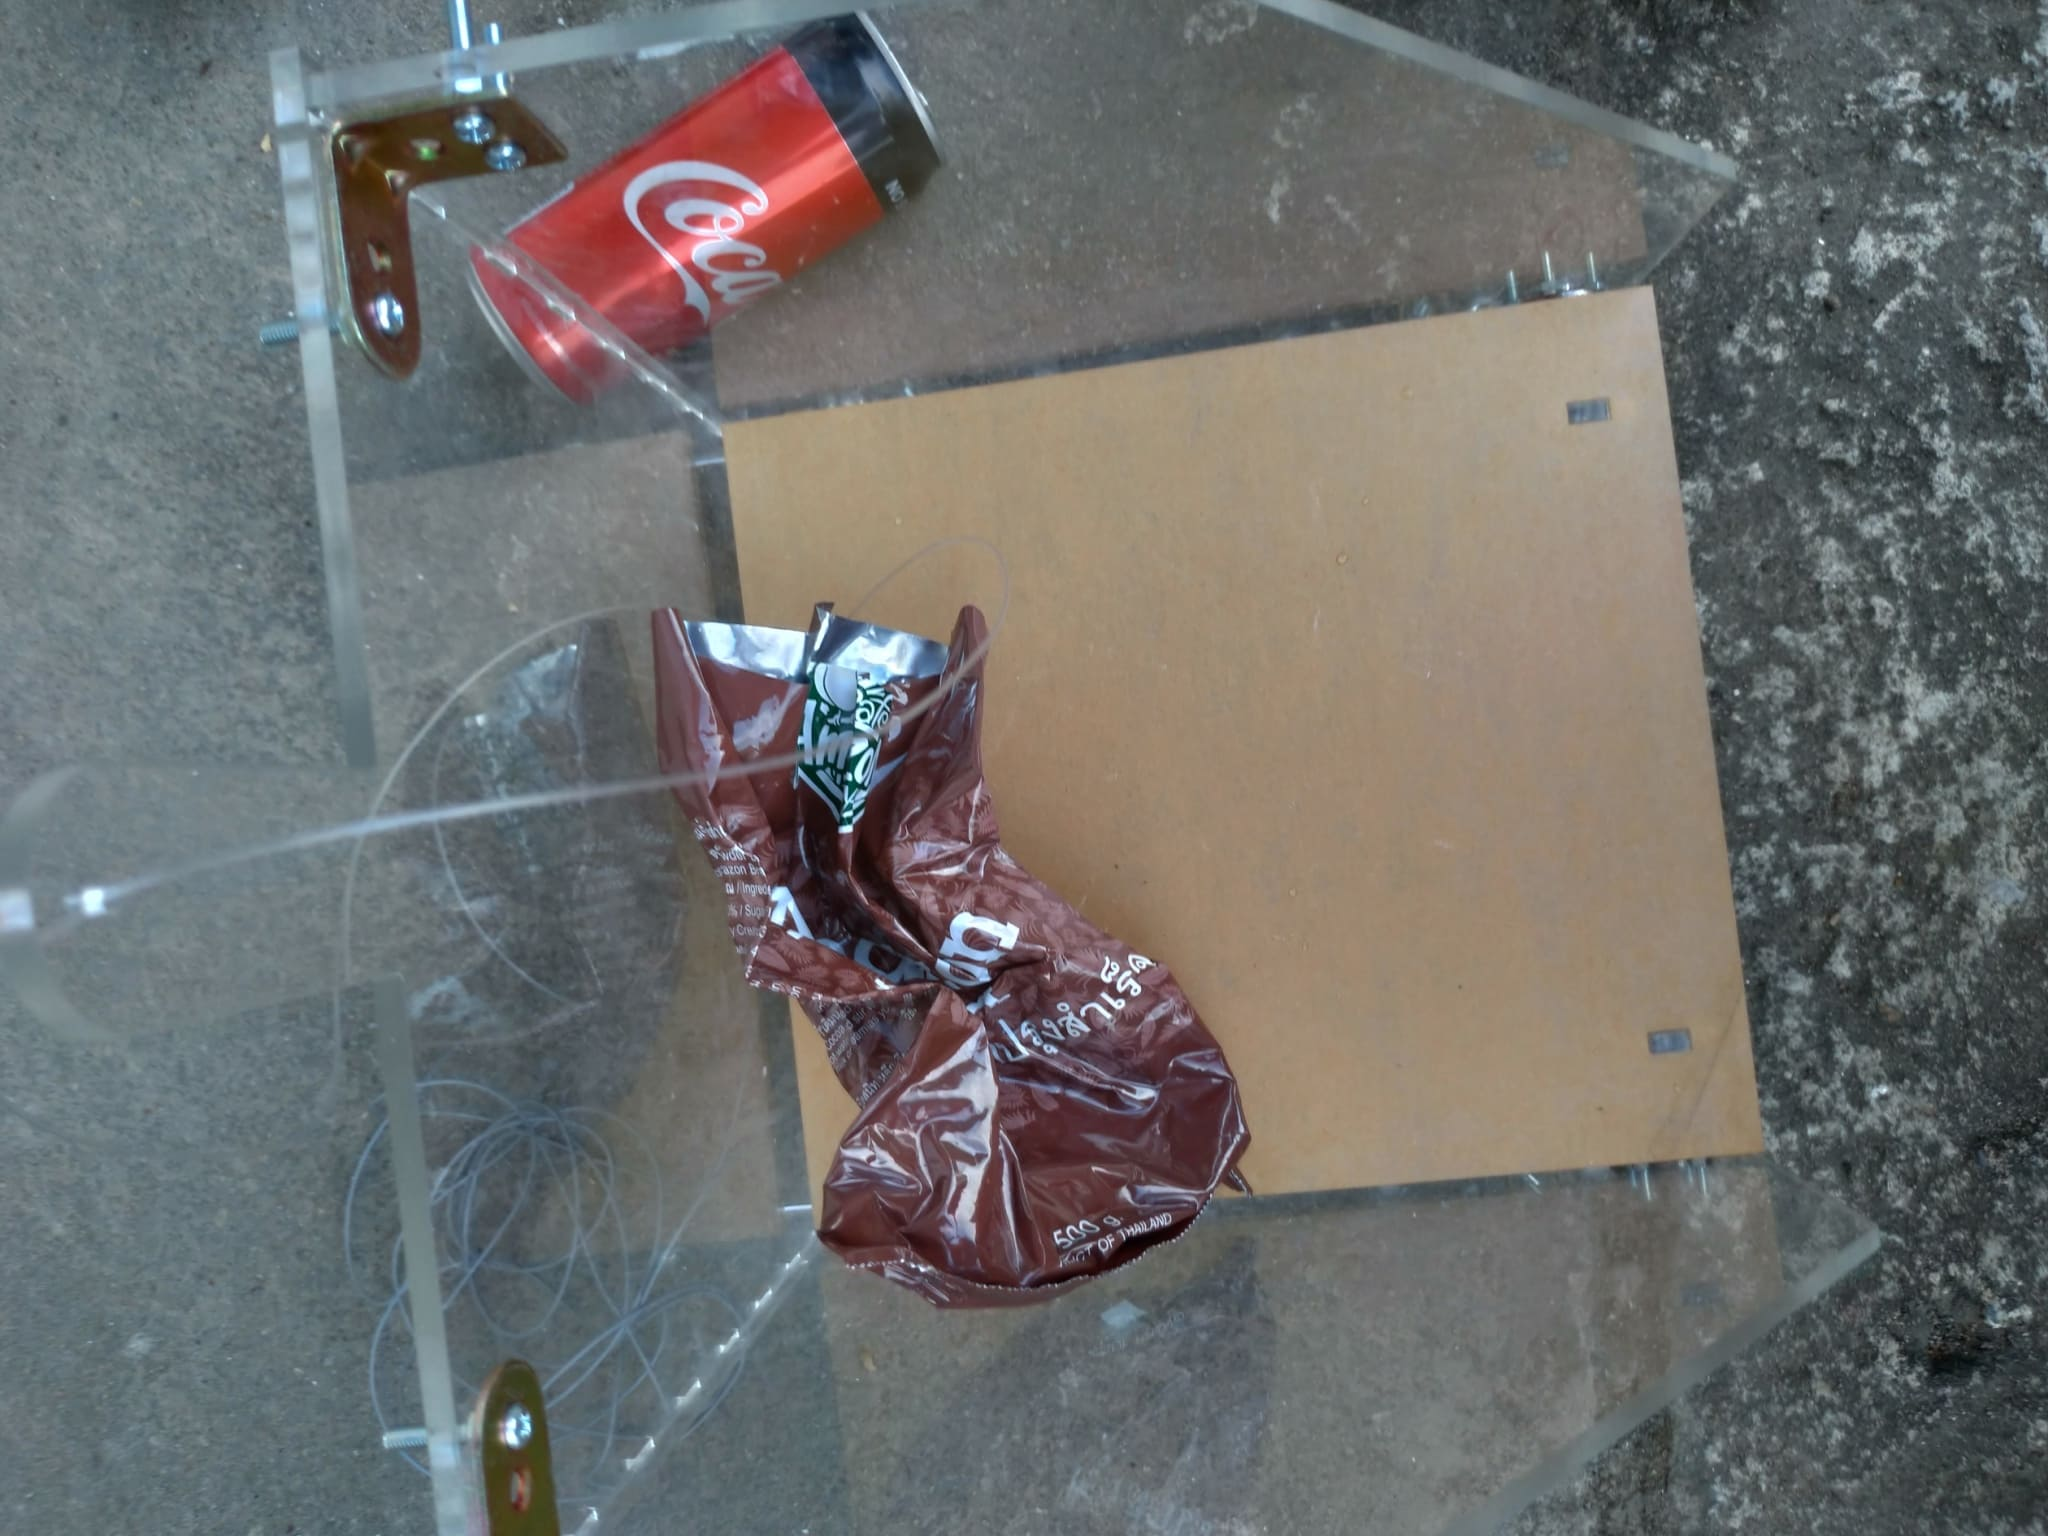AlCan: (469, 21, 939, 410)
Others: (647, 599, 1263, 1317)
